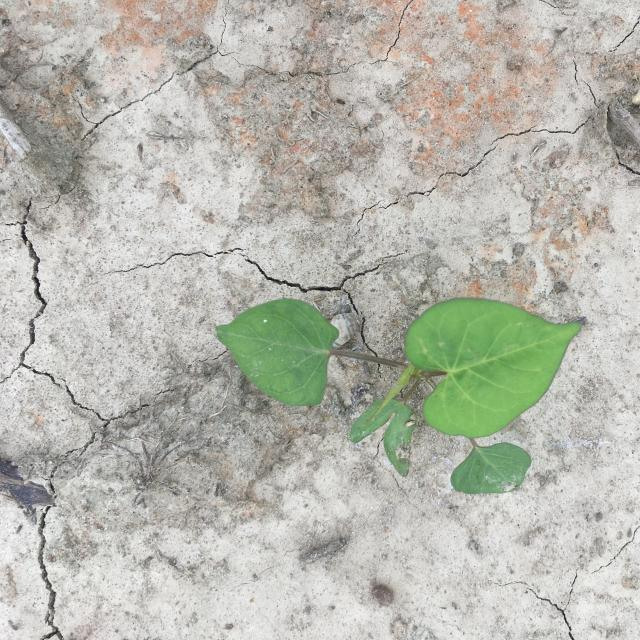MorningGlory: (211, 297, 582, 493)
